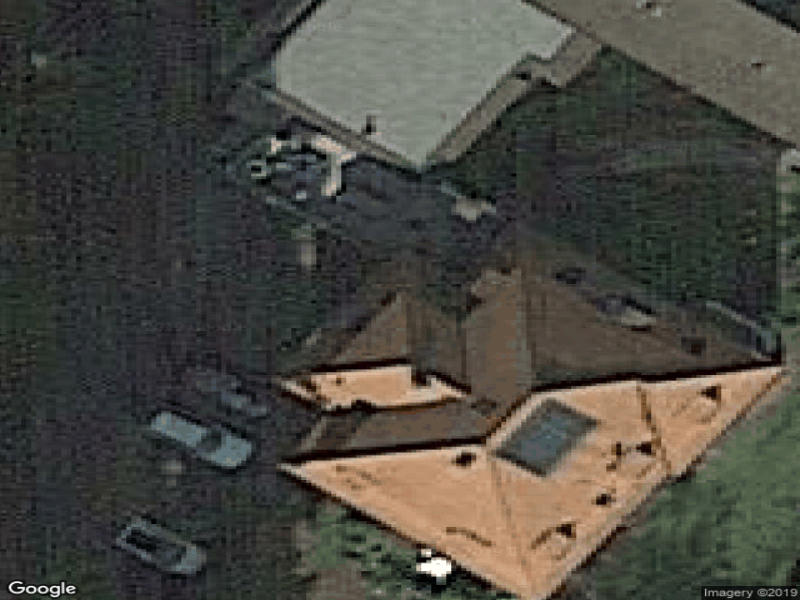pv: (496, 397, 595, 480)
